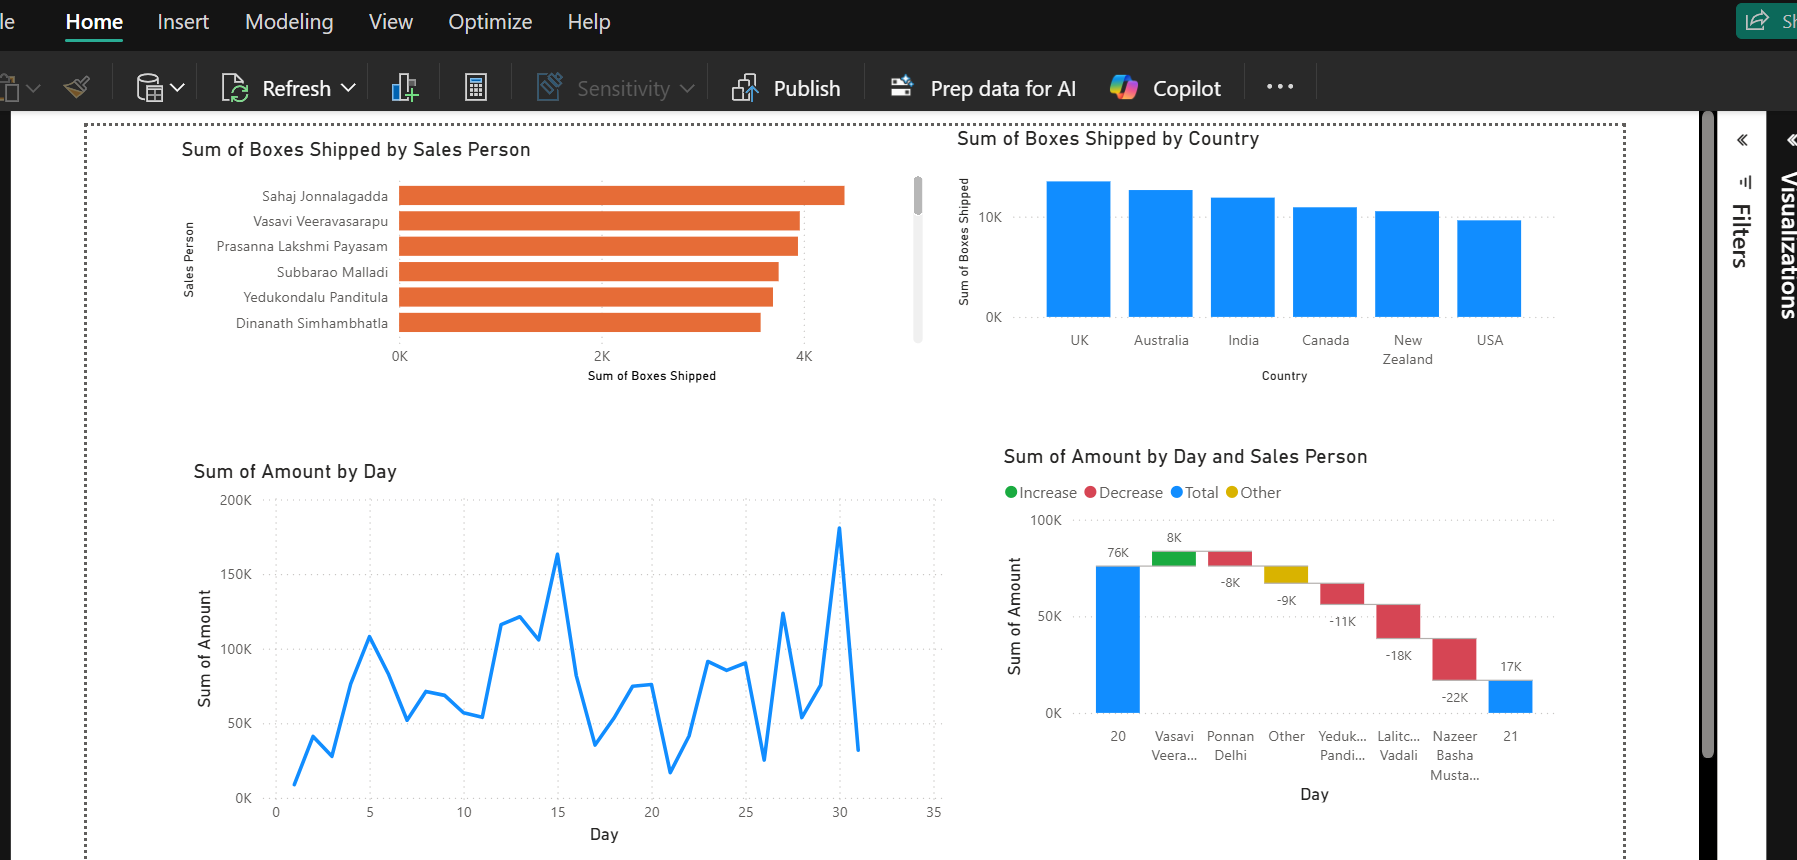

What the dashboard file says about the page in this screenshot:
{"tool":"powerbi","page":{"name":"Page 1","canvas":[1280,720],"ordinal":0},"visuals":[{"type":"barChart","fields":{"Category":["data.Sales Person"],"Y":["data.Boxes Shipped"]},"box":[13.3,0,407.8,178.9],"z":0},{"type":"columnChart","fields":{"Category":["data.Country"],"Y":["data.Boxes Shipped"]},"box":[504.4,0,344.4,183.3],"z":1},{"type":"lineChart","fields":{"Category":["data.Date.Variation.Date Hierarchy.Year","data.Date.Variation.Date Hierarchy.Quarter","data.Date.Variation.Date Hierarchy.Month","data.Date.Variation.Date Hierarchy.Day"],"Y":["data.Amount"]},"box":[0,265,505,337.5],"z":2},{"type":"waterfallChart","fields":{"Category":["data.Date.Variation.Date Hierarchy.Day"],"Breakdown":["data.Sales Person"],"Y":["data.Amount"]},"box":[525,252.5,470,303.8],"z":3}]}

Visuals, with their boxes on the page's 1280x720 design canvas (x1, y1, x2, y2). These are canvas units, not pixel positions in the 1797x860 screenshot, which may show the page scaled, cropped or inside an application window:
barChart - data.Sales Person x data.Boxes Shipped: locate(13, 0, 421, 179)
columnChart - data.Country x data.Boxes Shipped: locate(504, 0, 849, 183)
lineChart - data.Date.Variation.Date Hierarchy.Year x data.Date.Variation.Date Hierarchy.Quarter: locate(0, 265, 505, 602)
waterfallChart - data.Date.Variation.Date Hierarchy.Day x data.Sales Person: locate(525, 252, 995, 556)
